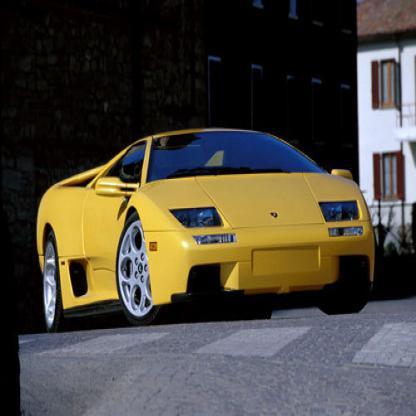Vehicle: (15, 100, 399, 383)
